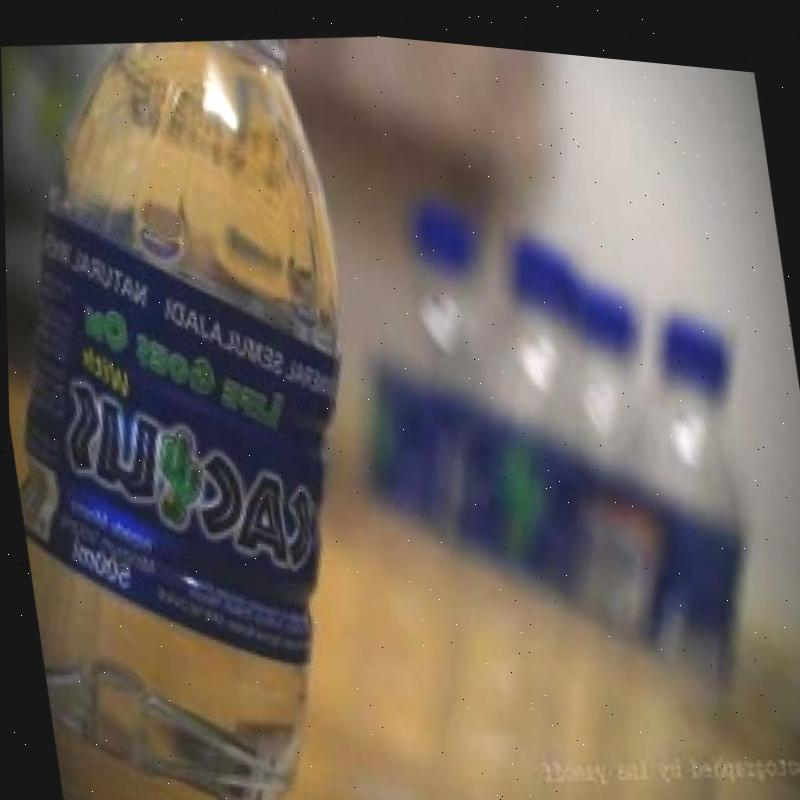botella: (0, 8, 423, 800), (264, 168, 569, 800), (338, 204, 658, 800), (476, 269, 800, 800), (553, 262, 666, 464)
